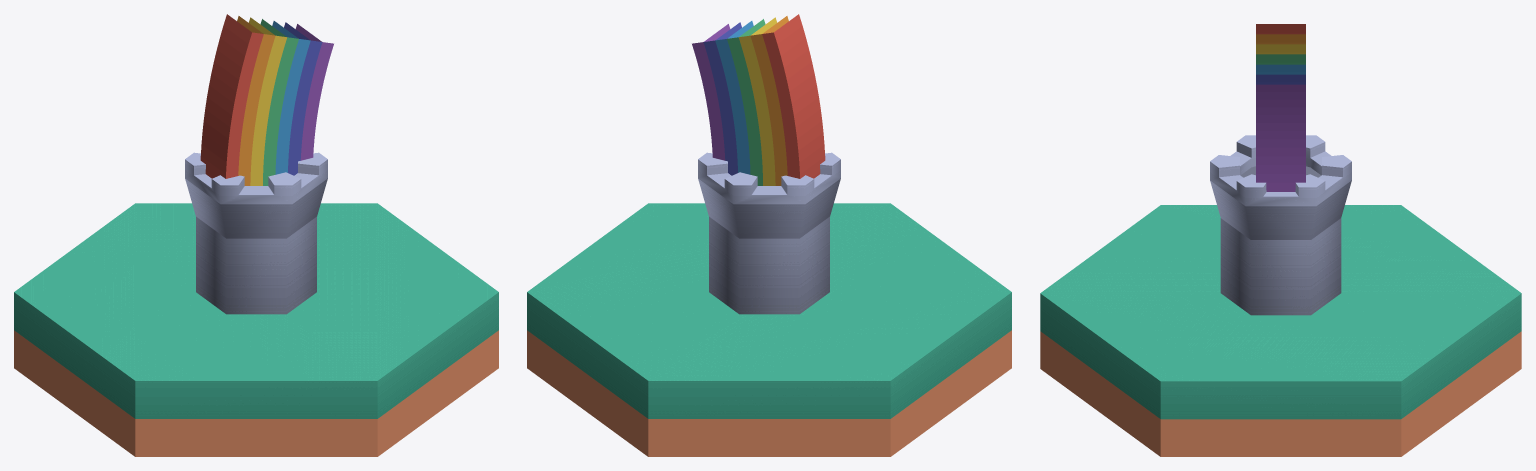
The model's file is grass-wall-tower-rainbow.glb.
3 views of the same model, side by side, from view 1: azimuth 30°, elevation 25°; view 2: azimuth 150°, elevation 25°; view 3: azimuth 270°, elevation 25° (orthographic).
Parts seen in each view (by area): view 1: grass, unit-wall-tower, rainbow; view 2: grass, unit-wall-tower, rainbow; view 3: grass, unit-wall-tower, rainbow.
Part boxes in pixels (left/top/right/bottom): grass: left=14, top=203, right=498, bottom=456; unit-wall-tower: left=185, top=152, right=327, bottom=314; rainbow: left=200, top=14, right=333, bottom=185; grass: left=527, top=203, right=1011, bottom=456; unit-wall-tower: left=698, top=152, right=840, bottom=314; rainbow: left=692, top=14, right=825, bottom=185; grass: left=1040, top=205, right=1521, bottom=456; unit-wall-tower: left=1210, top=135, right=1351, bottom=315; rainbow: left=1256, top=24, right=1305, bottom=191.
Bounding box in the file's own units: 1 × 0.9173 × 1.15.
Materials: 8 (1 with a texture image).
